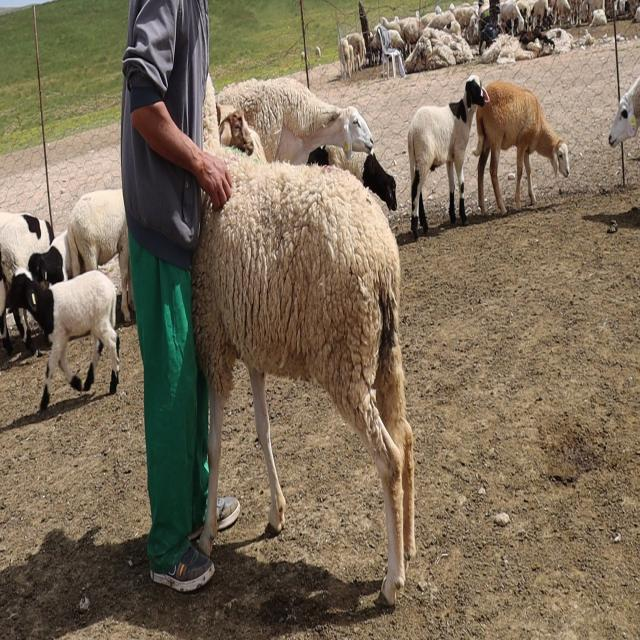Score_1: (191, 75, 416, 606)
